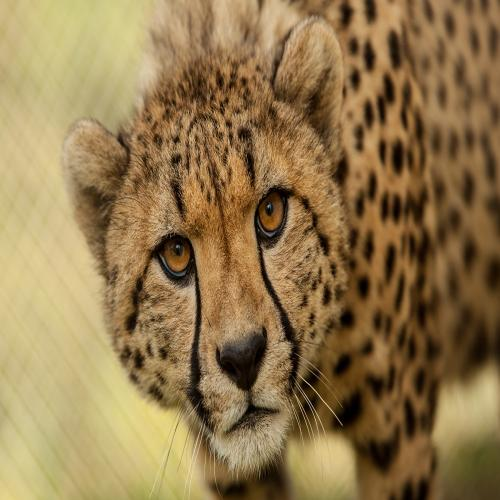cheetah-endangered: (65, 14, 496, 486)
